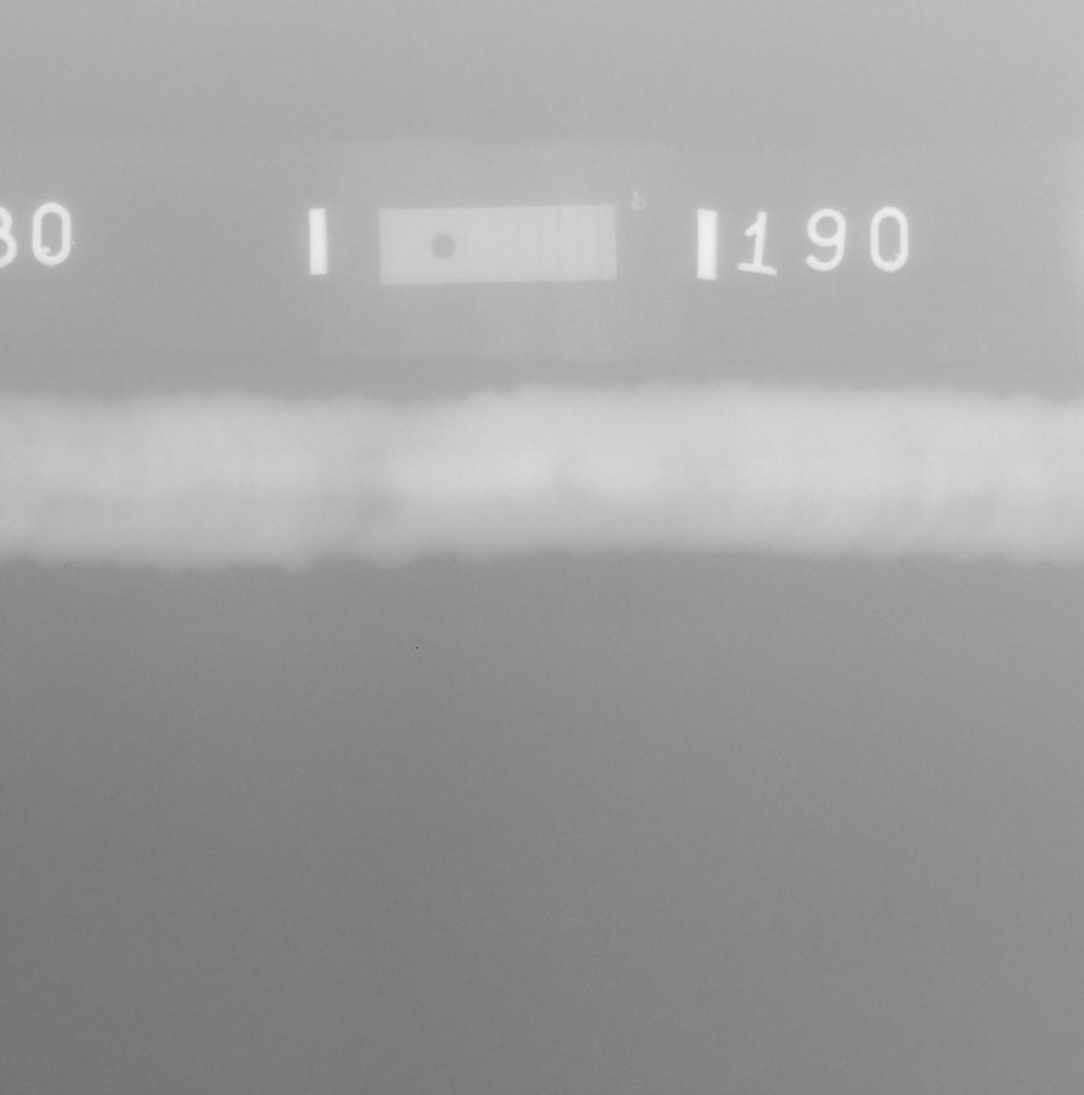Reference Standard 1: (378, 205, 617, 285)
